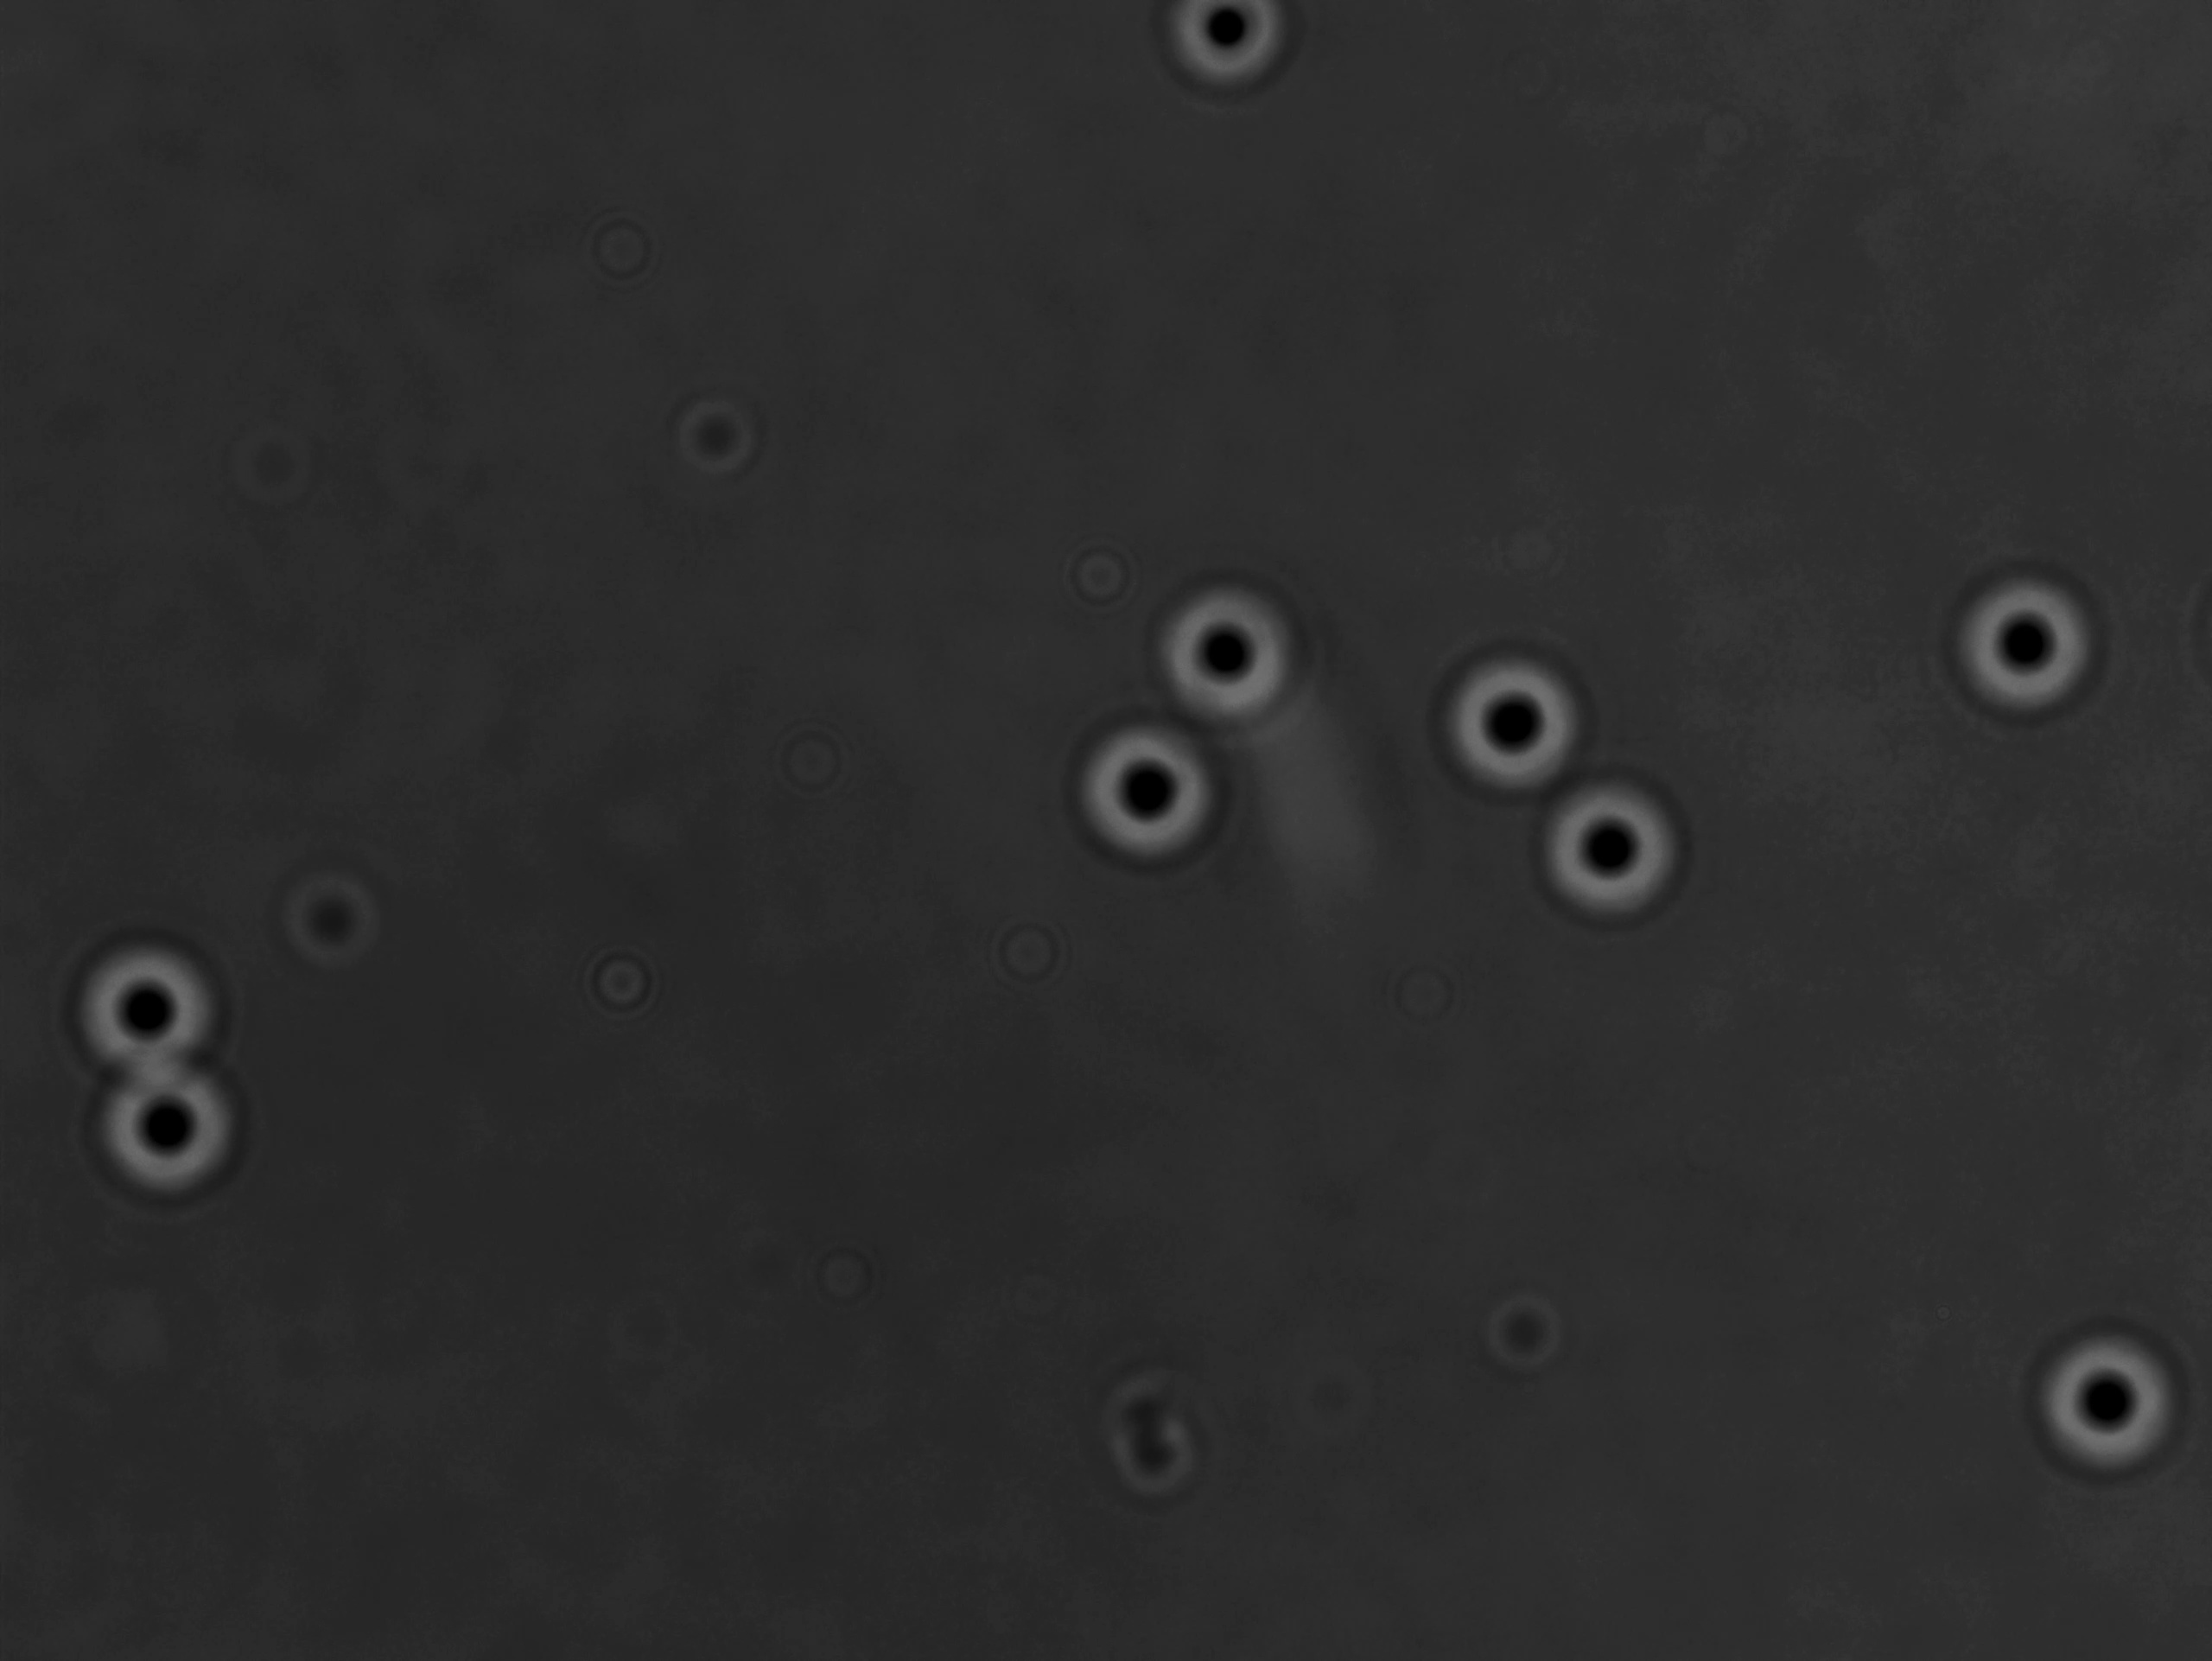depth:-40: (1936, 546, 2128, 740), (2017, 1309, 2212, 1483), (89, 1036, 270, 1214), (1137, 562, 1317, 738), (1062, 691, 1230, 865), (1425, 630, 1596, 792), (1537, 769, 1706, 932), (52, 919, 223, 1073)
